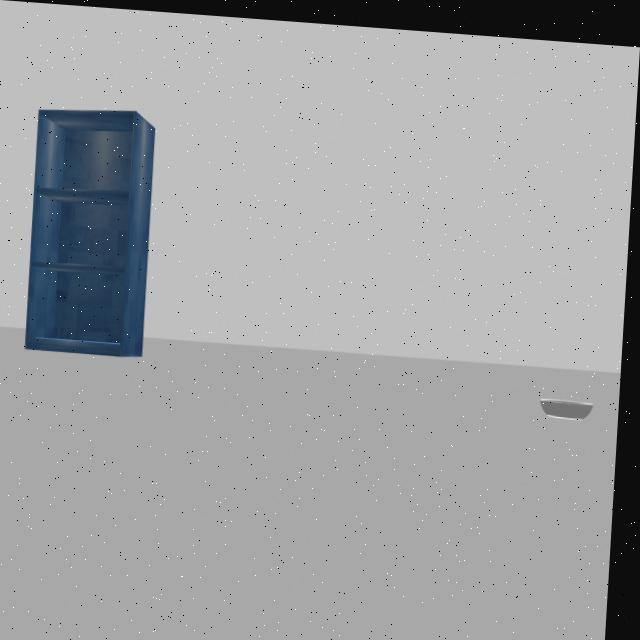bowl: (542, 375, 608, 419)
shelf: (22, 72, 176, 376)
